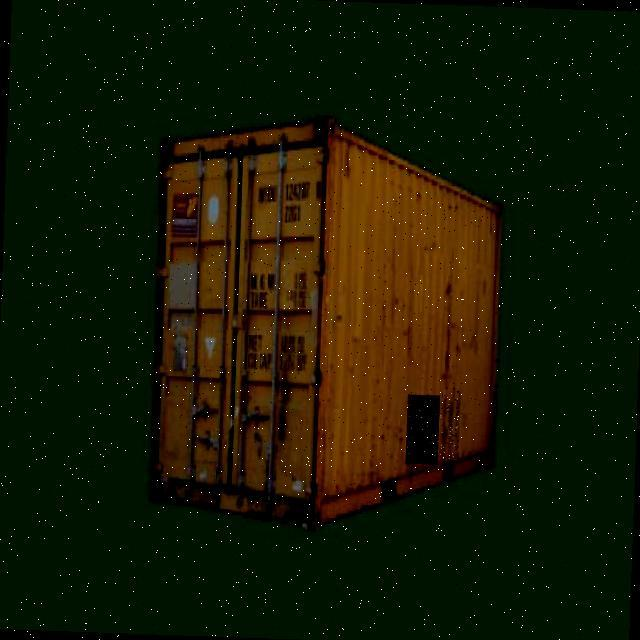Rust: (406, 394, 440, 464), (439, 387, 461, 459)
